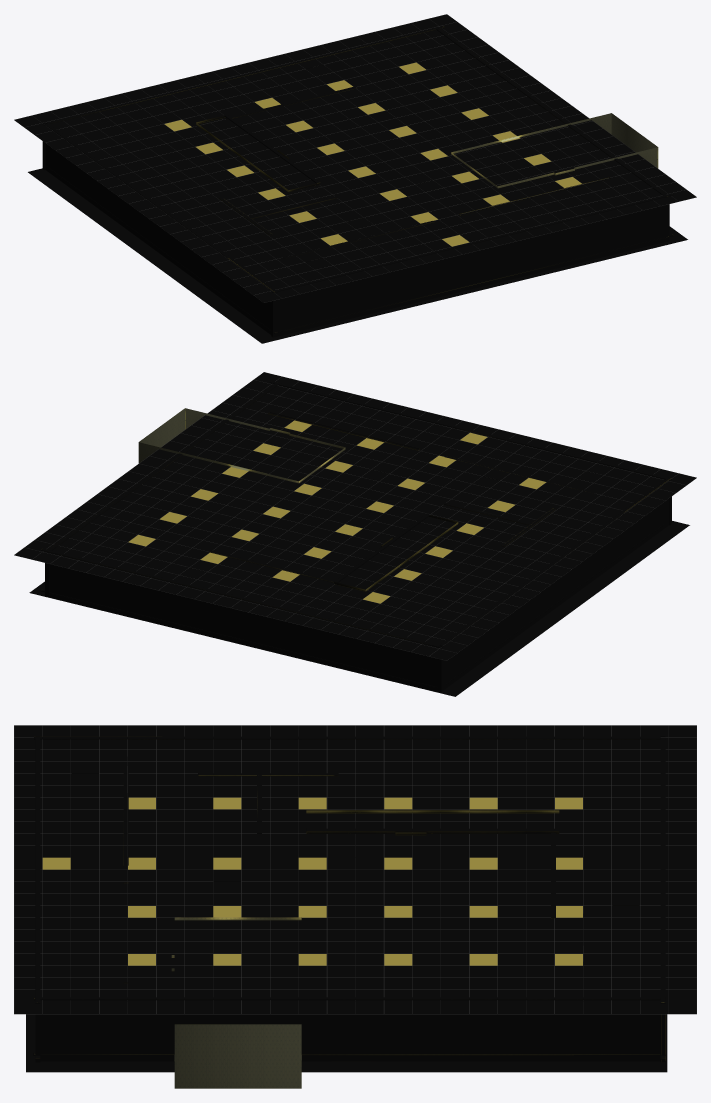
3 views of the same model, one above another, from view 1: azimuth 30°, elevation 25°; view 2: azimuth 150°, elevation 25°; view 3: azimuth 270°, elevation 25° (orthographic). The views are drawn at different scales.
Visible parts, largest first — view 1: BackWall_Double_BR.028; view 2: BackWall_Double_BR.028; view 3: BackWall_Double_BR.028.
Part boxes in pixels (x1,y1,x2,y2): BackWall_Double_BR.028: (14,14,696,343); BackWall_Double_BR.028: (14,372,696,696); BackWall_Double_BR.028: (14,725,696,1088).
Bounding box in the file's own units: 87.54 × 91.6 × 9.2.
